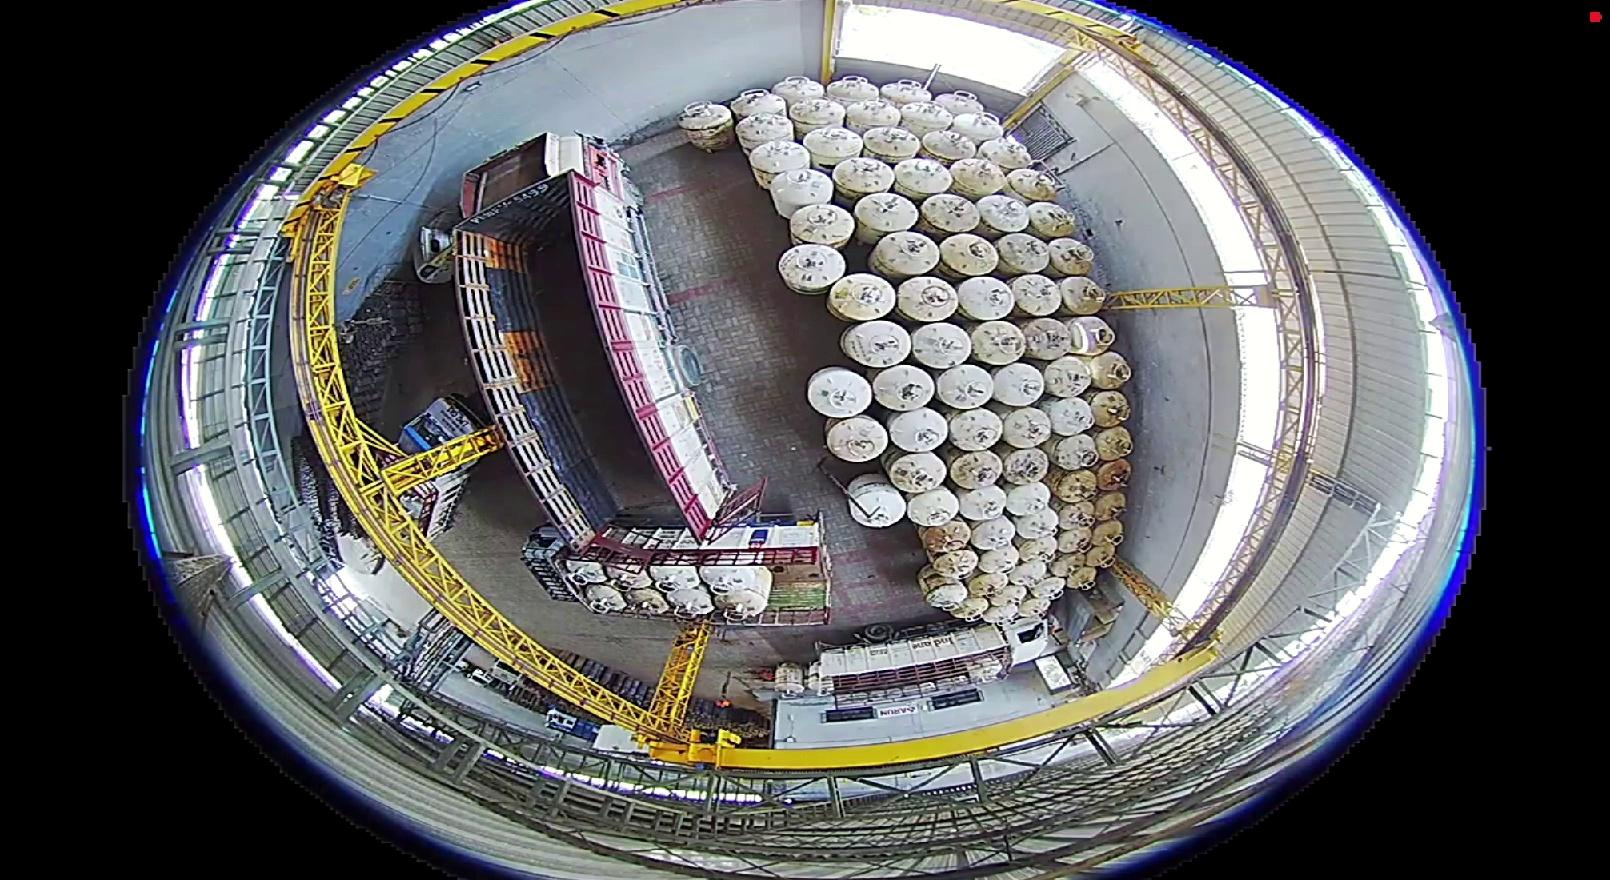cylinder: (777, 234, 847, 294), (826, 272, 896, 322), (840, 319, 910, 368), (769, 167, 834, 218), (845, 473, 906, 527), (870, 230, 937, 279), (895, 273, 960, 323), (853, 190, 918, 240), (748, 138, 809, 189), (909, 320, 972, 370), (871, 363, 935, 412), (826, 415, 887, 464), (887, 404, 949, 453), (789, 202, 853, 248), (956, 274, 1016, 323), (935, 362, 996, 411), (678, 102, 735, 154), (968, 319, 1026, 367), (937, 231, 998, 277), (886, 448, 947, 494), (990, 360, 1047, 409), (946, 406, 1004, 453), (831, 156, 894, 199), (735, 111, 794, 156), (892, 157, 952, 202), (919, 192, 981, 235), (802, 125, 865, 167), (948, 156, 1007, 200), (1020, 315, 1075, 362), (999, 404, 1055, 450), (995, 231, 1052, 275), (1041, 353, 1095, 400), (906, 486, 962, 529), (1009, 272, 1063, 316), (949, 448, 1004, 491), (1040, 394, 1094, 438), (976, 193, 1031, 235), (862, 124, 921, 163), (955, 481, 1010, 522), (788, 96, 844, 137), (1064, 314, 1115, 357), (1003, 479, 1055, 520), (845, 99, 903, 135), (1000, 444, 1050, 487), (922, 129, 977, 167), (1025, 200, 1077, 241), (1047, 236, 1095, 279), (1004, 166, 1059, 204), (978, 137, 1033, 174), (949, 109, 1003, 147), (899, 100, 953, 138), (1057, 275, 1107, 316), (1051, 430, 1100, 471), (1087, 349, 1133, 391), (731, 87, 788, 121), (968, 514, 1016, 553), (1010, 503, 1059, 541), (923, 517, 973, 554), (925, 546, 977, 581), (1074, 608, 1118, 648), (1088, 388, 1133, 427), (1055, 466, 1101, 505), (826, 75, 878, 107), (769, 75, 822, 106), (921, 579, 970, 612), (1092, 424, 1134, 462), (933, 89, 984, 119), (1013, 531, 1059, 565), (879, 78, 927, 107), (1052, 497, 1095, 530), (973, 543, 1016, 574), (1091, 487, 1129, 522), (1094, 456, 1132, 492), (1009, 558, 1050, 591), (948, 591, 991, 621), (917, 562, 956, 595), (986, 581, 1028, 610), (1053, 522, 1091, 555), (974, 569, 1017, 597), (979, 595, 1021, 624), (1082, 535, 1118, 567), (1088, 517, 1125, 547), (1028, 578, 1065, 608), (1065, 562, 1099, 590)
truck: (454, 135, 732, 538), (451, 643, 677, 752), (771, 623, 1020, 703), (458, 128, 634, 237), (385, 398, 493, 545), (291, 432, 378, 571), (398, 605, 478, 695), (832, 612, 984, 657), (520, 526, 586, 605), (412, 223, 457, 282), (653, 566, 718, 595)
